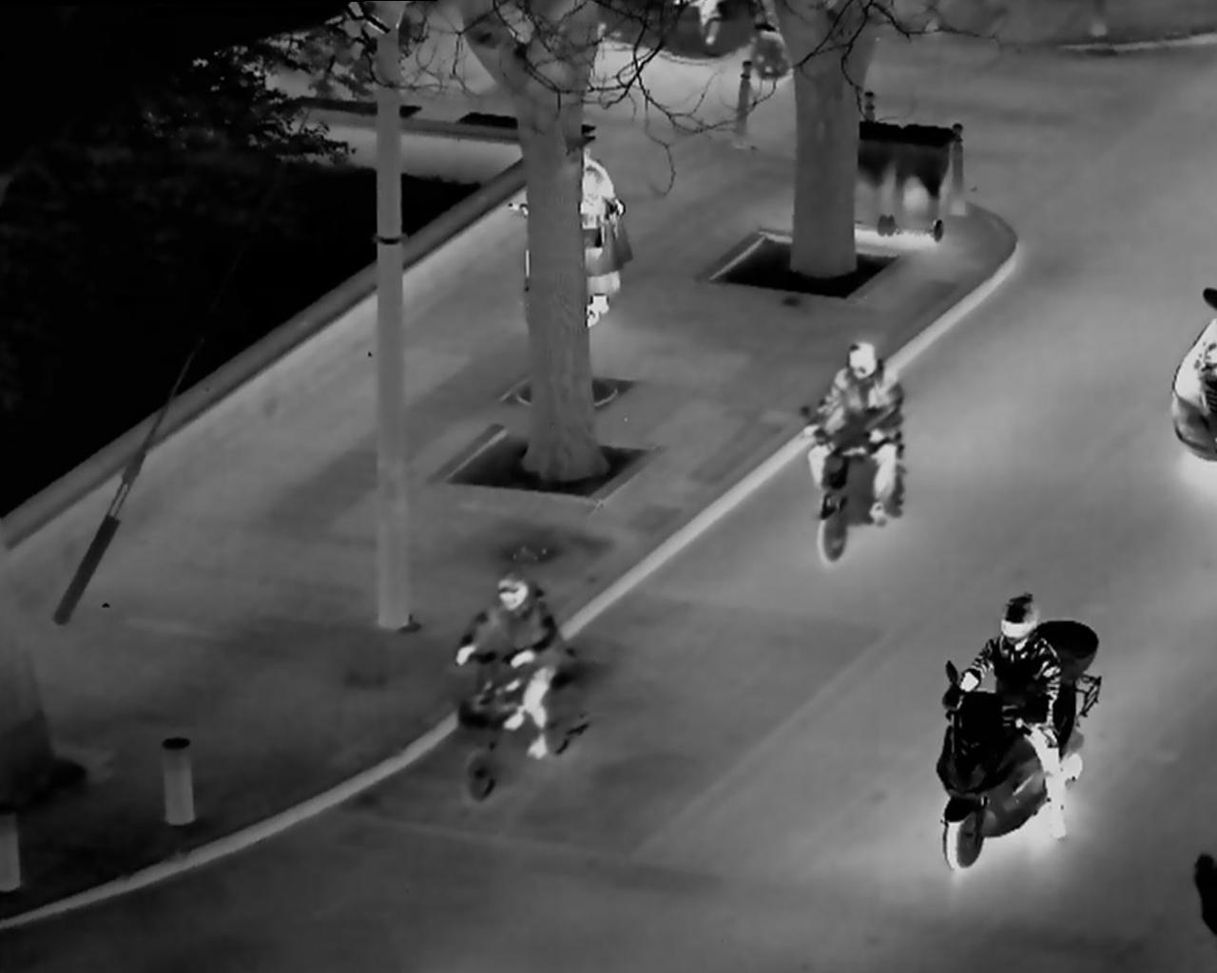person: (944, 575, 1101, 873), (451, 571, 590, 783), (801, 333, 918, 556), (571, 153, 645, 333)
